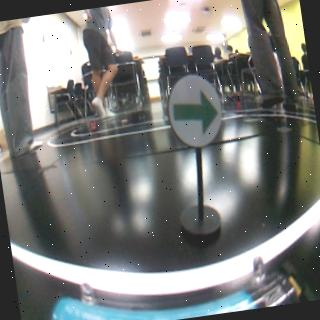right: (164, 72, 224, 150)
